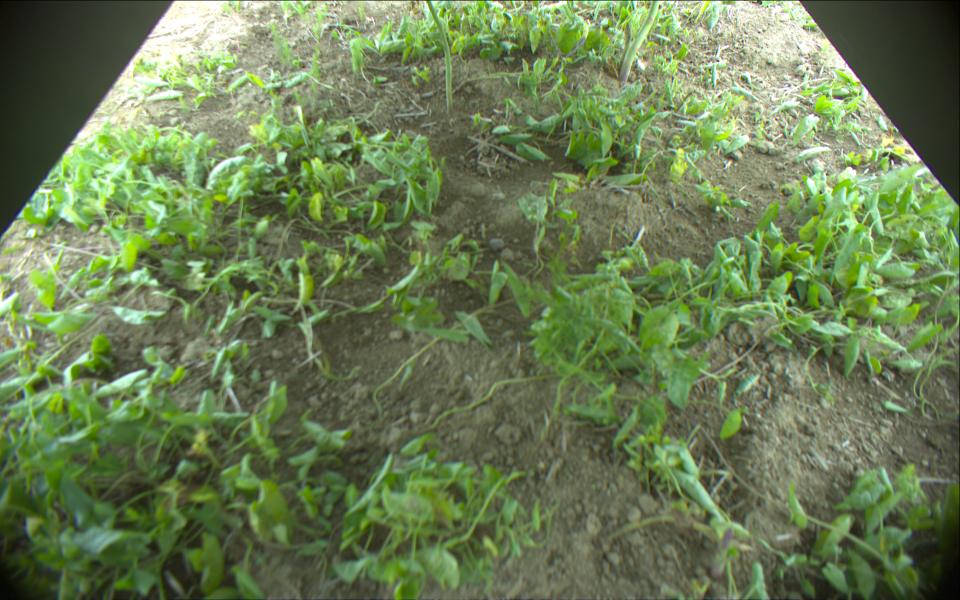aspa: (427, 1, 454, 115), (620, 1, 657, 84)
